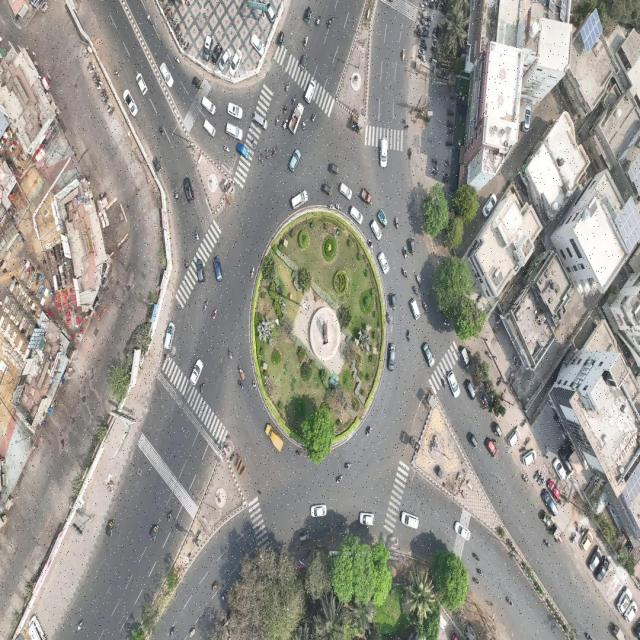3W: (105, 518, 115, 538), (468, 432, 478, 449), (192, 76, 203, 90), (408, 238, 416, 257), (389, 292, 397, 311), (492, 422, 502, 437), (152, 156, 161, 172), (277, 31, 285, 49), (150, 524, 158, 542), (298, 529, 309, 542), (301, 52, 308, 72), (304, 6, 311, 24), (329, 163, 339, 175), (322, 184, 332, 196)
Cars: (541, 489, 560, 517), (616, 586, 632, 615), (123, 89, 138, 117), (482, 193, 498, 219), (588, 546, 602, 573), (229, 49, 242, 77), (288, 149, 303, 173), (290, 190, 308, 210), (400, 512, 420, 530), (447, 371, 460, 398), (160, 63, 174, 88), (164, 322, 176, 351), (190, 359, 203, 385), (422, 343, 435, 368), (553, 457, 566, 482), (226, 122, 243, 141), (250, 33, 264, 56), (454, 521, 470, 541), (304, 79, 316, 105), (522, 101, 532, 132), (253, 111, 268, 131), (210, 42, 223, 65), (547, 480, 561, 501), (227, 101, 243, 119), (136, 72, 148, 96), (195, 258, 206, 284), (183, 177, 194, 203), (213, 255, 223, 283), (202, 35, 212, 62), (378, 252, 390, 274), (508, 426, 520, 448), (387, 342, 396, 371), (350, 206, 363, 226), (202, 97, 216, 115), (236, 142, 250, 160), (203, 118, 216, 137), (371, 218, 382, 240), (410, 298, 421, 320), (380, 138, 388, 168), (339, 182, 352, 200), (310, 505, 328, 518), (522, 451, 537, 466), (460, 348, 470, 370), (465, 380, 476, 400), (266, 2, 276, 23), (360, 513, 374, 525)
LCV: (264, 424, 284, 452), (290, 101, 304, 135), (361, 187, 372, 206), (378, 210, 388, 228)
M2W: (211, 579, 220, 592), (145, 14, 154, 26), (166, 509, 173, 524), (472, 576, 481, 585), (472, 552, 480, 562), (220, 592, 227, 603), (158, 124, 164, 136), (194, 229, 200, 241), (211, 308, 217, 320), (251, 378, 257, 390), (227, 349, 233, 361), (200, 382, 206, 394), (584, 632, 593, 640), (78, 619, 84, 631), (366, 426, 372, 438), (477, 568, 484, 578), (506, 596, 513, 606), (544, 538, 551, 548), (203, 300, 209, 311), (169, 626, 175, 637), (441, 378, 447, 389), (513, 356, 519, 367), (416, 275, 422, 286), (272, 147, 278, 158), (275, 115, 281, 126), (344, 462, 352, 470), (336, 475, 343, 484), (114, 68, 120, 78), (190, 628, 196, 638), (522, 474, 528, 484), (423, 300, 428, 312), (402, 267, 407, 279), (312, 111, 317, 123), (223, 144, 230, 152), (402, 48, 406, 62), (446, 121, 454, 128), (174, 191, 179, 202), (498, 376, 503, 387), (413, 286, 418, 297), (302, 119, 307, 130), (174, 55, 180, 64), (238, 380, 244, 389), (296, 449, 302, 458), (520, 418, 526, 427), (486, 350, 492, 359), (403, 247, 407, 260), (250, 266, 254, 279), (571, 532, 576, 542), (525, 437, 530, 447), (368, 240, 373, 250), (286, 82, 291, 92), (292, 95, 297, 105), (283, 119, 288, 129), (335, 203, 342, 210), (431, 158, 438, 165), (444, 160, 451, 167), (575, 520, 579, 532), (407, 330, 411, 342), (252, 139, 256, 151), (304, 36, 308, 48), (316, 15, 320, 27), (328, 17, 332, 29), (184, 258, 188, 269), (328, 204, 335, 210), (419, 49, 425, 56), (422, 31, 428, 38), (442, 177, 449, 183), (447, 110, 454, 116), (284, 104, 288, 114), (581, 527, 585, 537), (395, 217, 398, 230), (387, 312, 390, 324), (409, 148, 412, 160), (447, 129, 453, 135), (443, 321, 450, 326), (163, 2, 167, 10), (446, 141, 452, 146), (421, 38, 426, 43), (168, 12, 172, 18), (432, 167, 438, 171), (443, 173, 449, 177)
